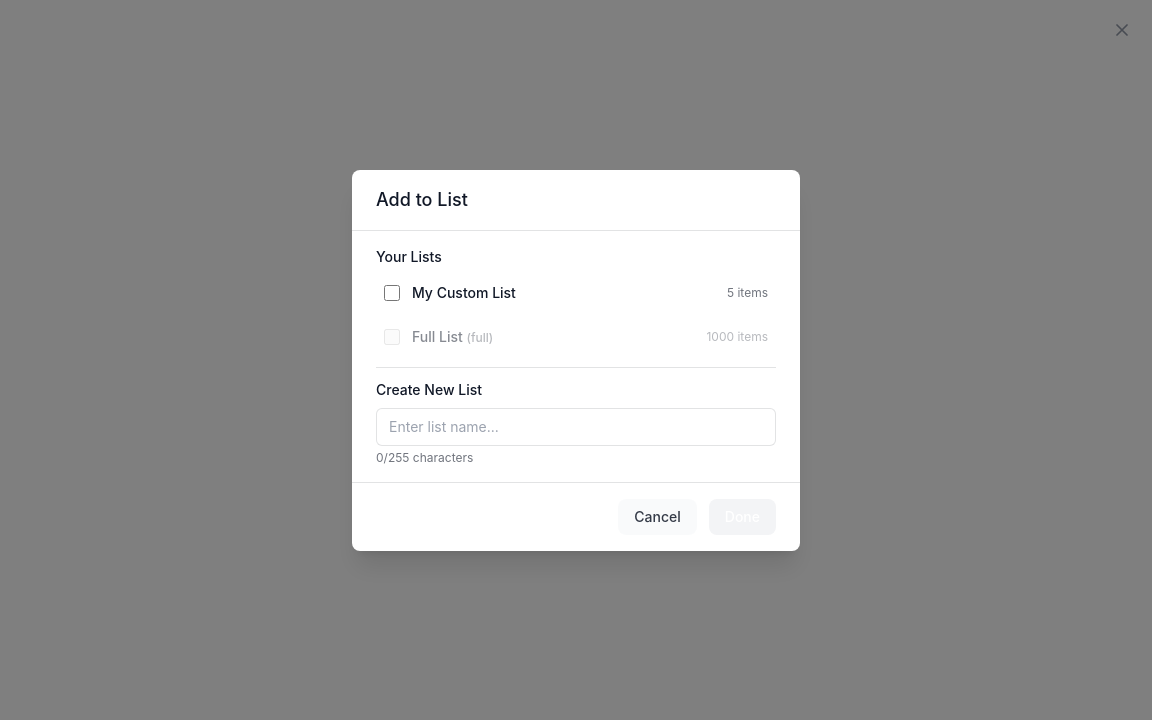
Test: AddToListDialog › should handle list creation errors gracefully
The image size is (1152, 720).
Type "Duplicate Name" into the field with placeholder "Enter list name...". click: (576, 426)
box: [376,408,776,446]
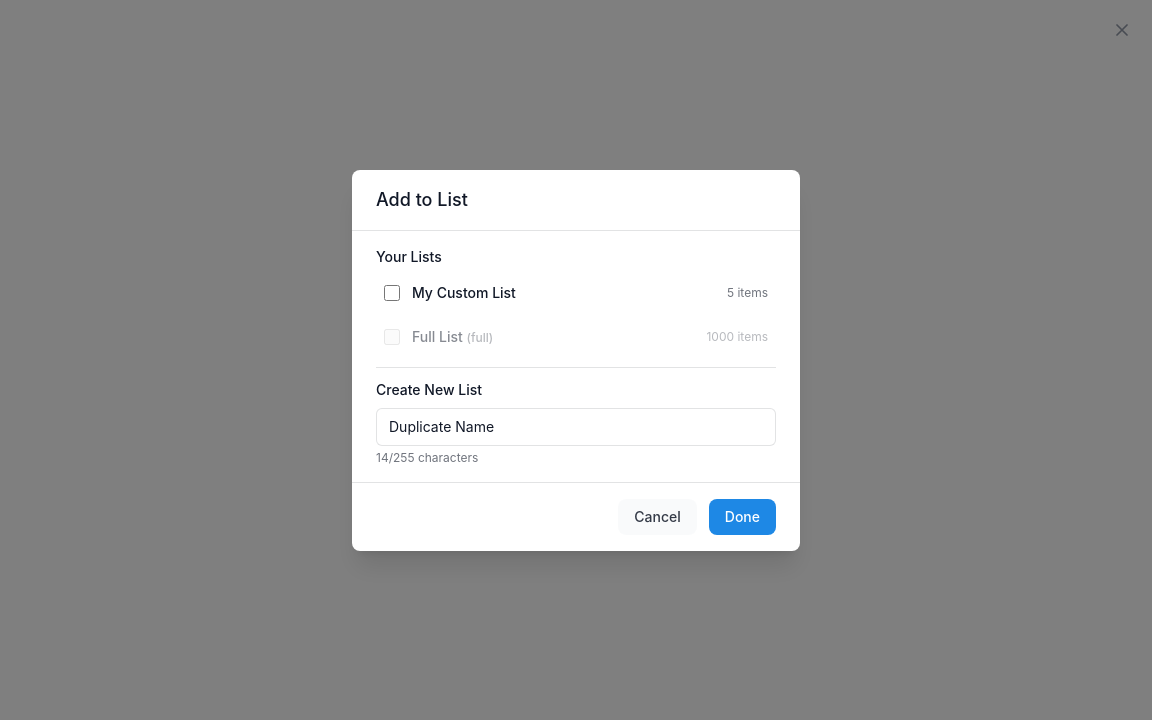
Press Enter in the field, box [376,408,776,446]
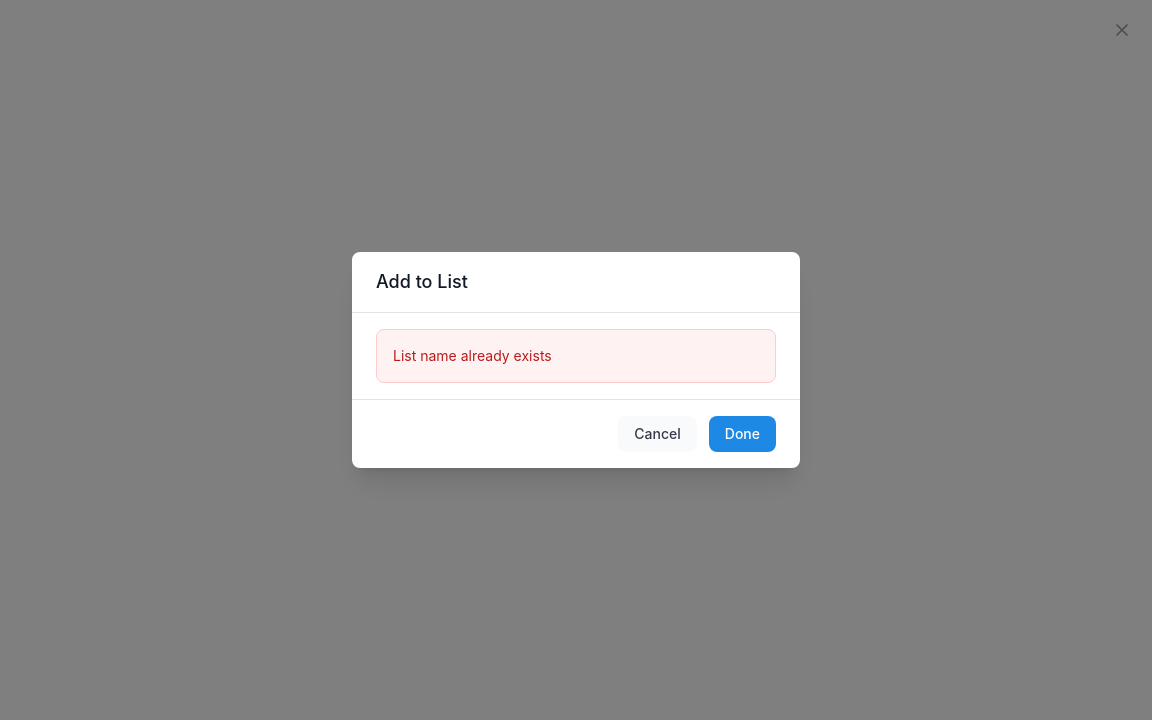
Result: the text "already exists" is shown at [393,347,552,364]
